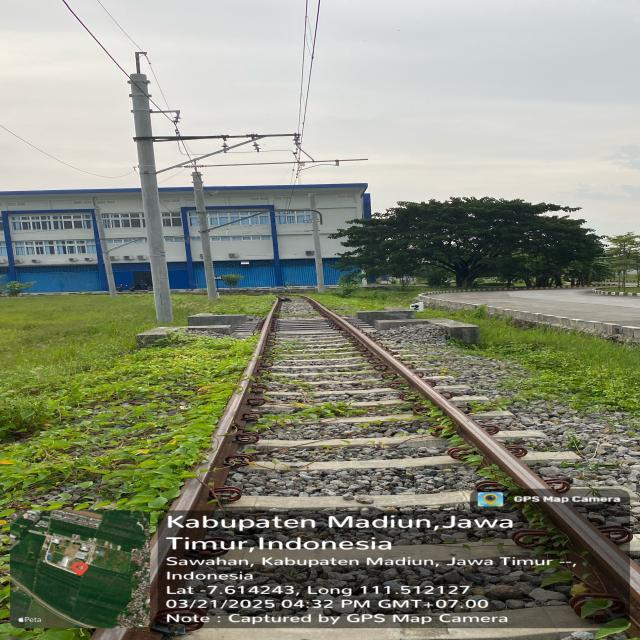rail-detection: (301, 296, 640, 629), (150, 298, 281, 614)
